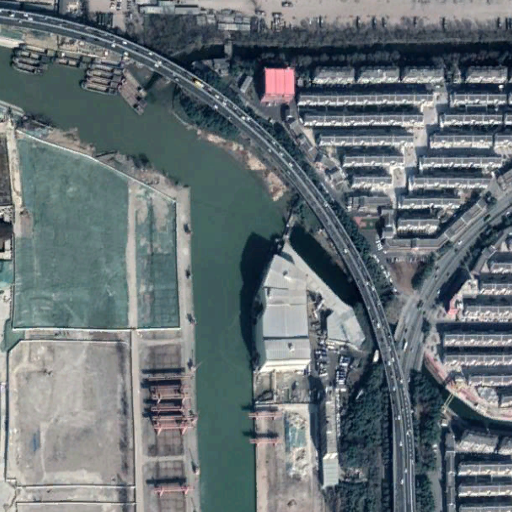cw: (8, 134, 180, 329)
